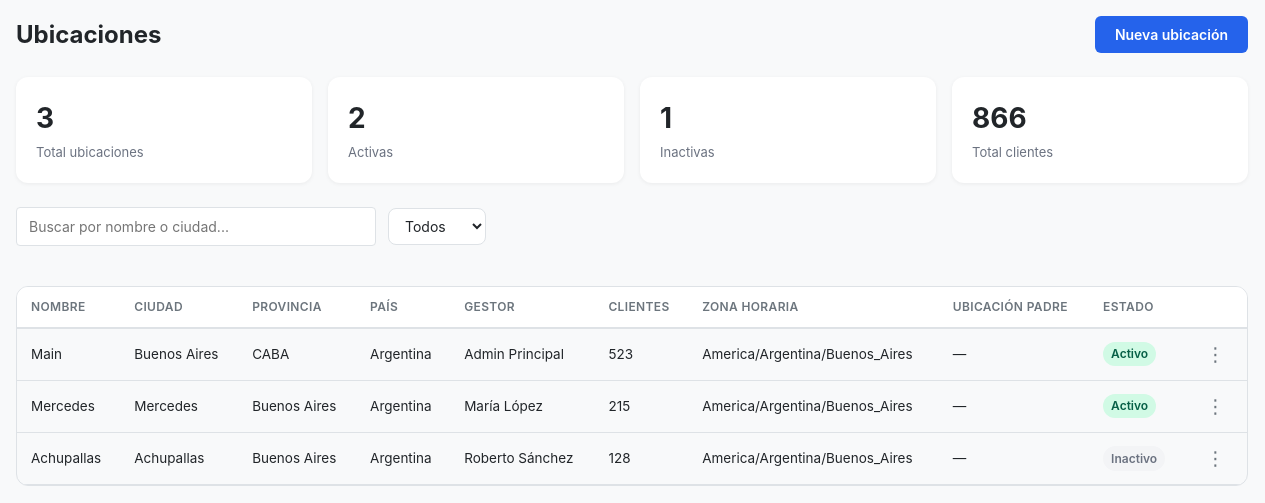
Test case: LocationsPage › status filter "inactive" hides active locations
The image size is (1265, 503).
Select "Inactivo" in the dropdown named "Estado" at (437,226), box top-left (388, 208), bottom-right (486, 244)
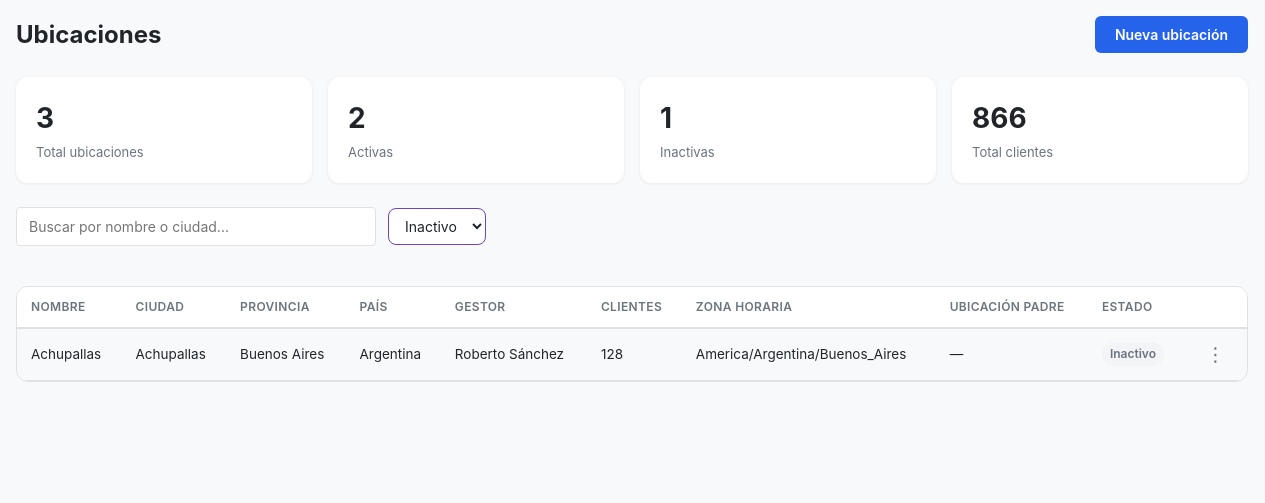
Check: the text "Main" is gone
